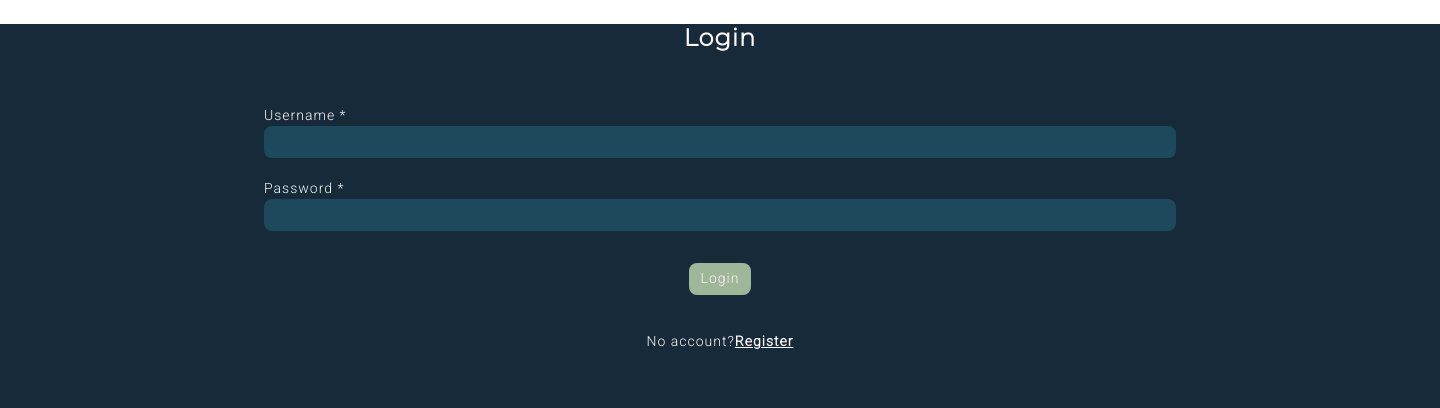
it: <Login /> unit tests › username validation message appears when invalid form submitted
Click the button "Login" at (720, 279), box [689,263,752,295]
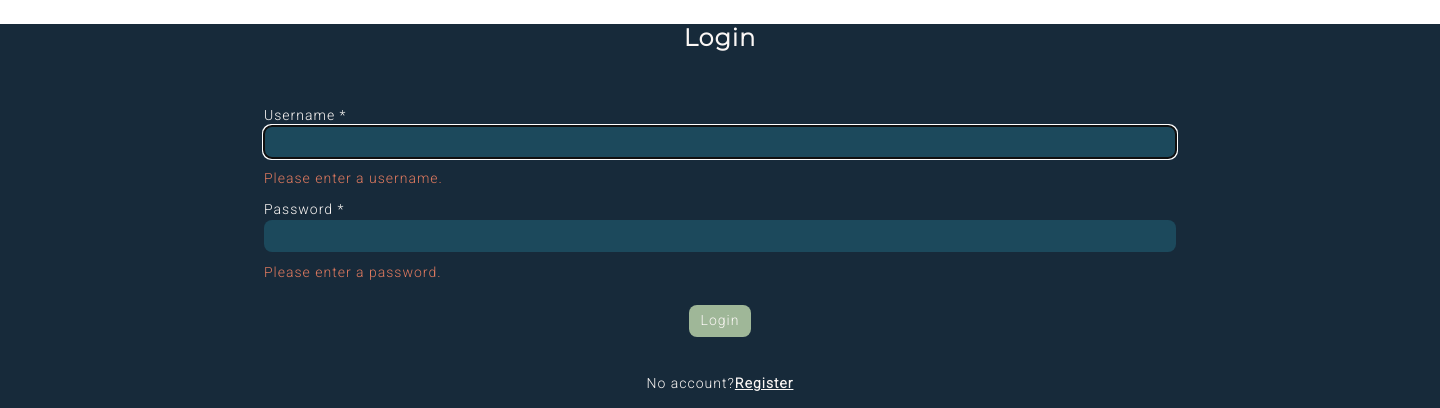
Check: the text with test id "username-feedback" reads "Please enter a username.", box [264,170,443,186]
